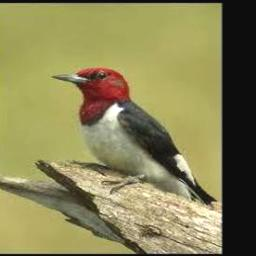Woodpecker: (51, 67, 217, 206)
